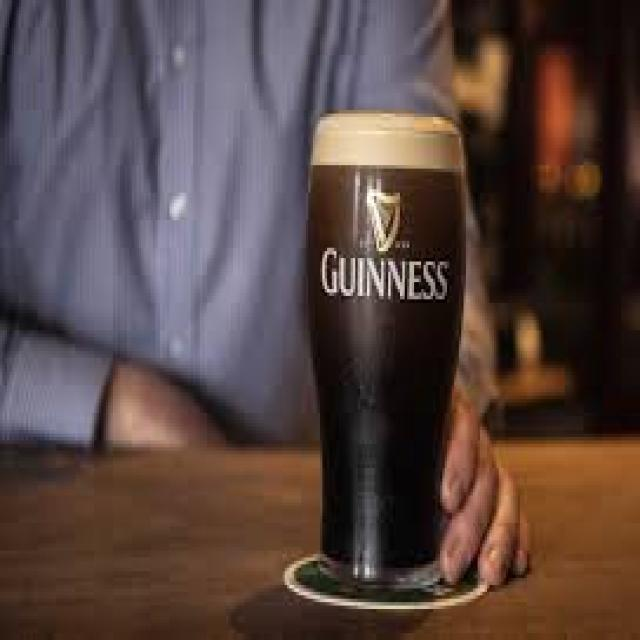guiness_full_glass: (305, 111, 463, 585)
